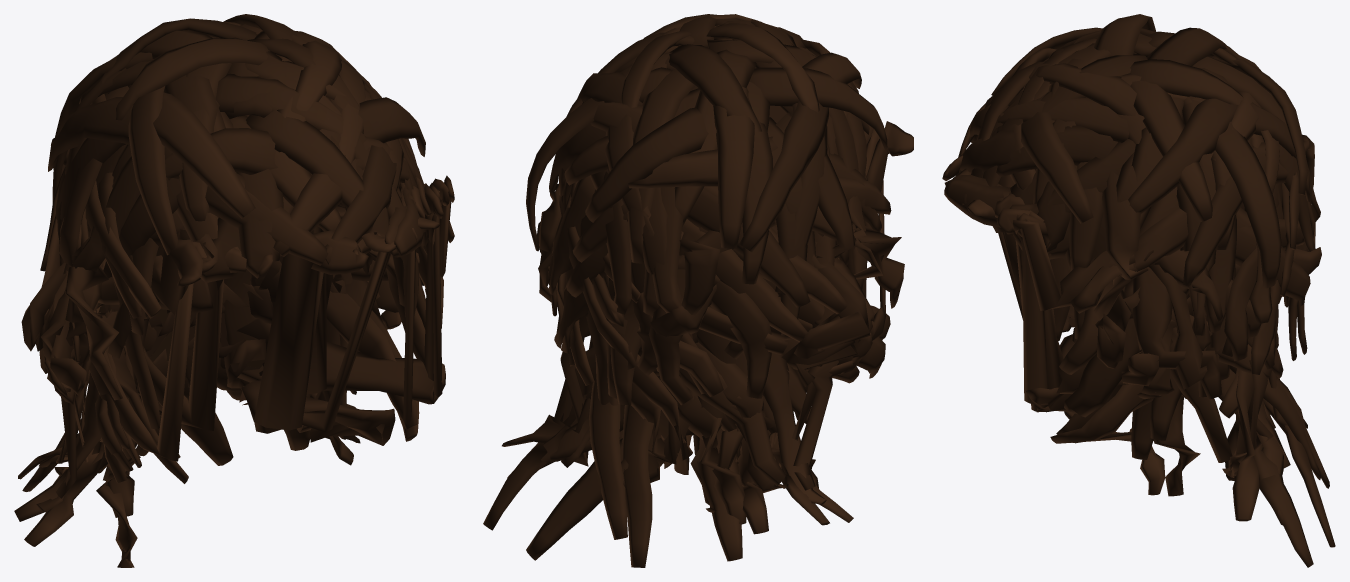
Rendered from kopf.haar.zerzaust.glb.
3 renders of one model, left to right at view 1: azimuth 30°, elevation 25°; view 2: azimuth 150°, elevation 25°; view 3: azimuth 270°, elevation 25°, orthographic. The views are drawn at different scales.
Parts seen in each view (by area): view 1: haar; view 2: haar; view 3: haar.
Part boxes in pixels (x1=…): haar: x1=14, y1=14, x2=454, y2=567; haar: x1=483, y1=14, x2=913, y2=567; haar: x1=942, y1=14, x2=1335, y2=567.
Size of the model in its own units: 0.2311 by 0.3115 by 0.2351.
